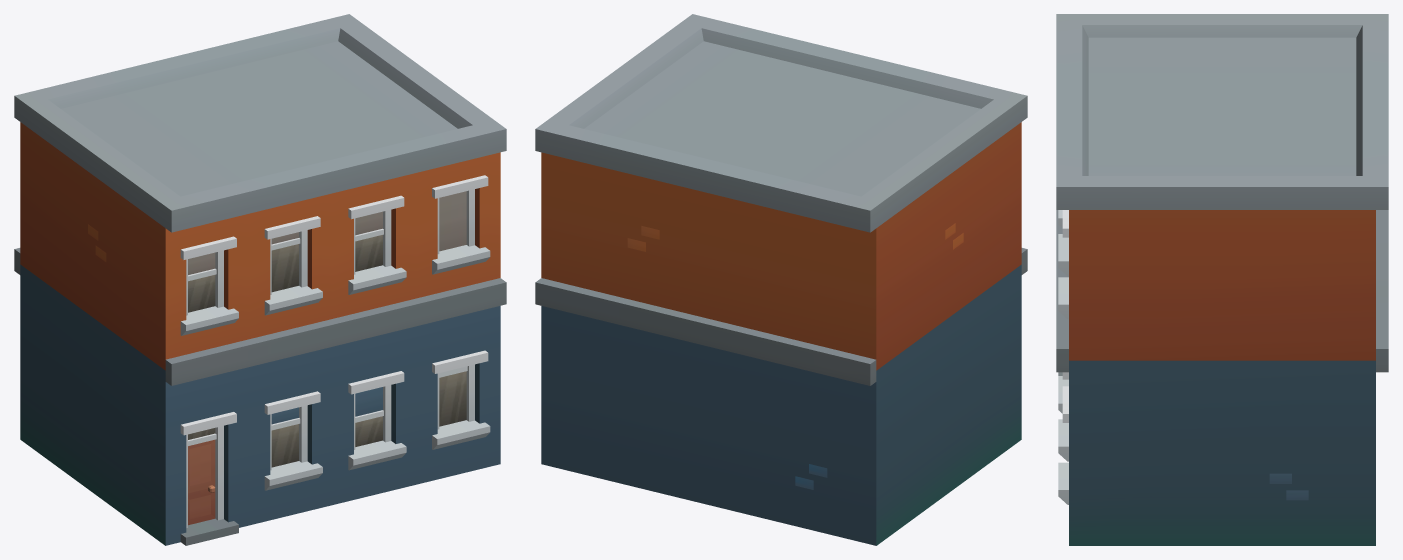
The model's file is kay-predio-b.gltf.
The picture shows the model from 3 angles, left to right: view 1: azimuth 30°, elevation 25°; view 2: azimuth 150°, elevation 25°; view 3: azimuth 270°, elevation 25°; orthographic projection. The views are drawn at different scales.
Visible parts, largest first — view 1: building_B_withoutBase; view 2: building_B_withoutBase; view 3: building_B_withoutBase.
Boxes of the visible parts, left/top/right/bottom form: building_B_withoutBase: left=14, top=14, right=506, bottom=545; building_B_withoutBase: left=535, top=14, right=1027, bottom=545; building_B_withoutBase: left=1056, top=14, right=1388, bottom=545.
Bounding box in the file's own units: 8.03 × 7.75 × 6.5.
1 material, 1 textured.
